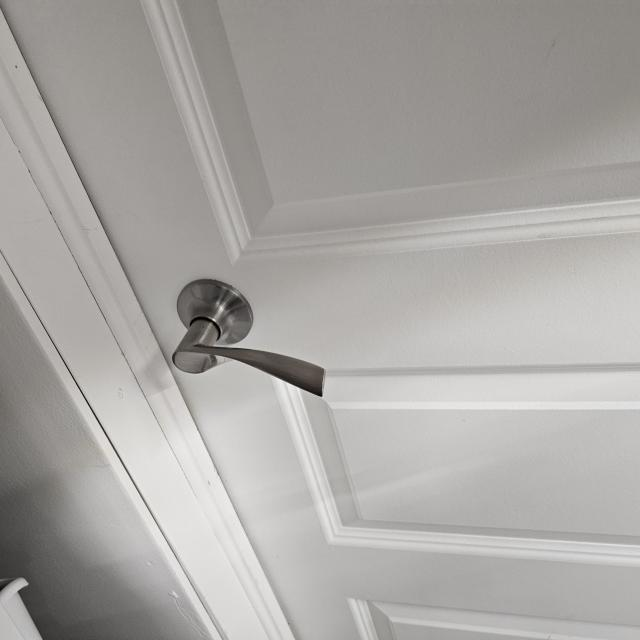door-handle: (172, 279, 325, 396)
